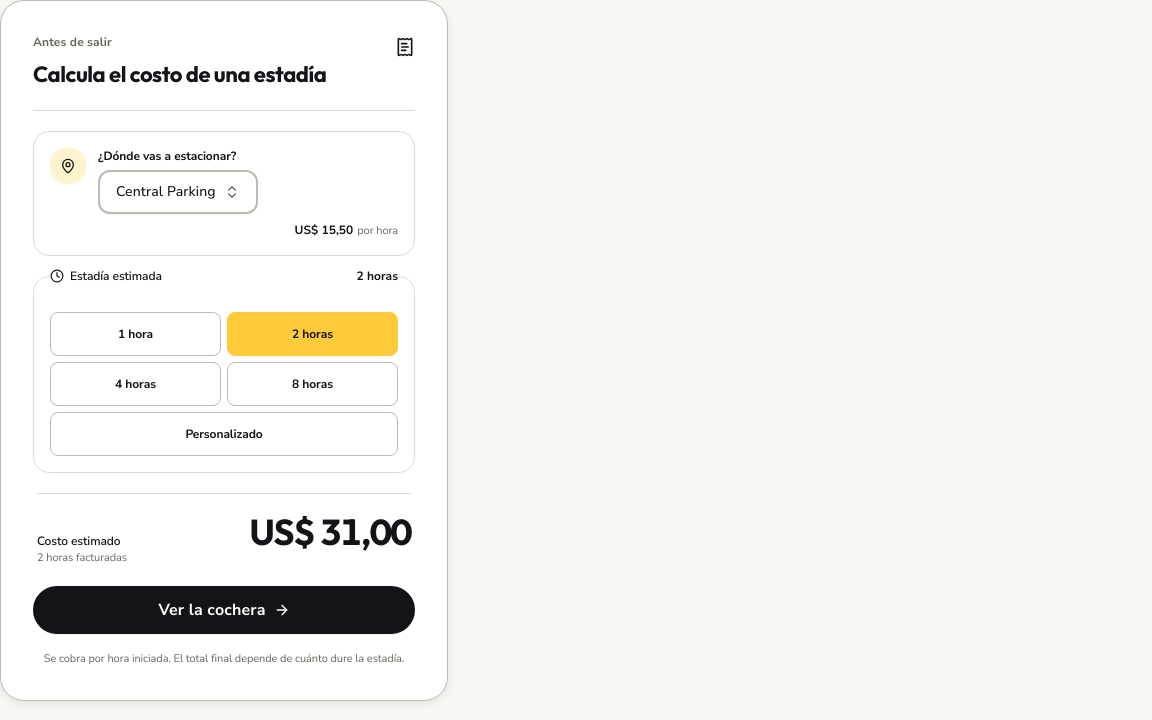
Test: ParkingCalculatorWidget › updates the rate and estimate when the selected facility changes
Click the dropdown named "¿Dónde vas a estacionar?": (178, 192) [98,170,258,214]
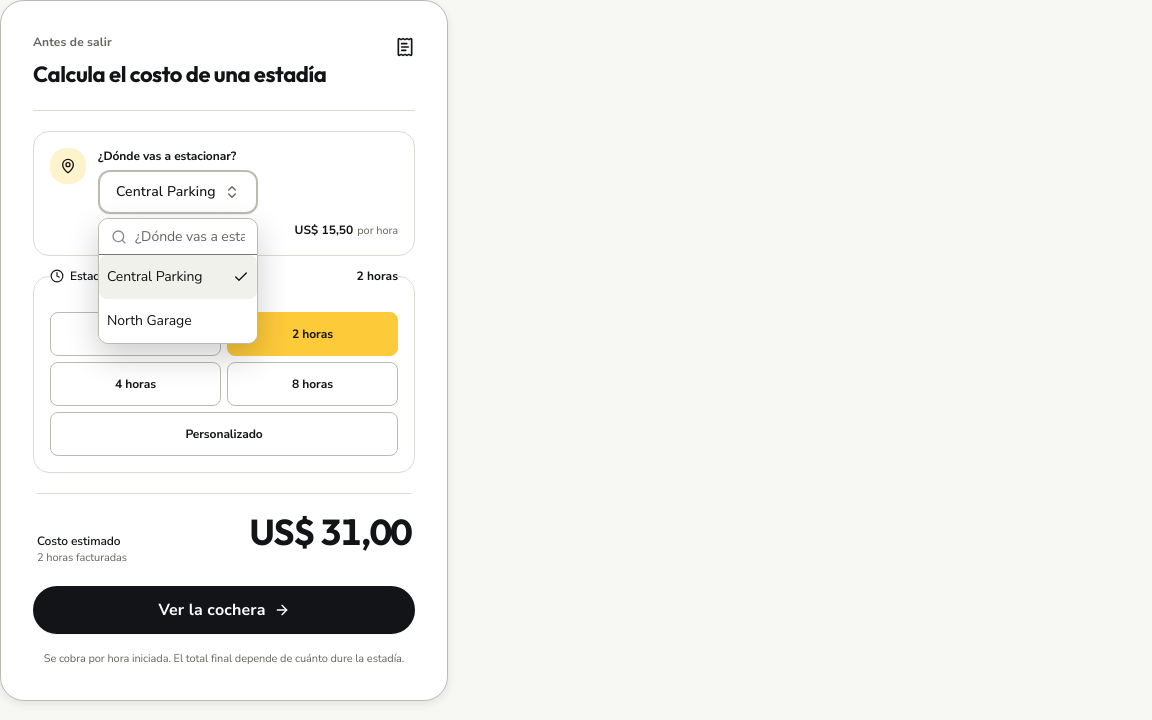
Click the option "North Garage": (149, 320) [107,311,192,330]
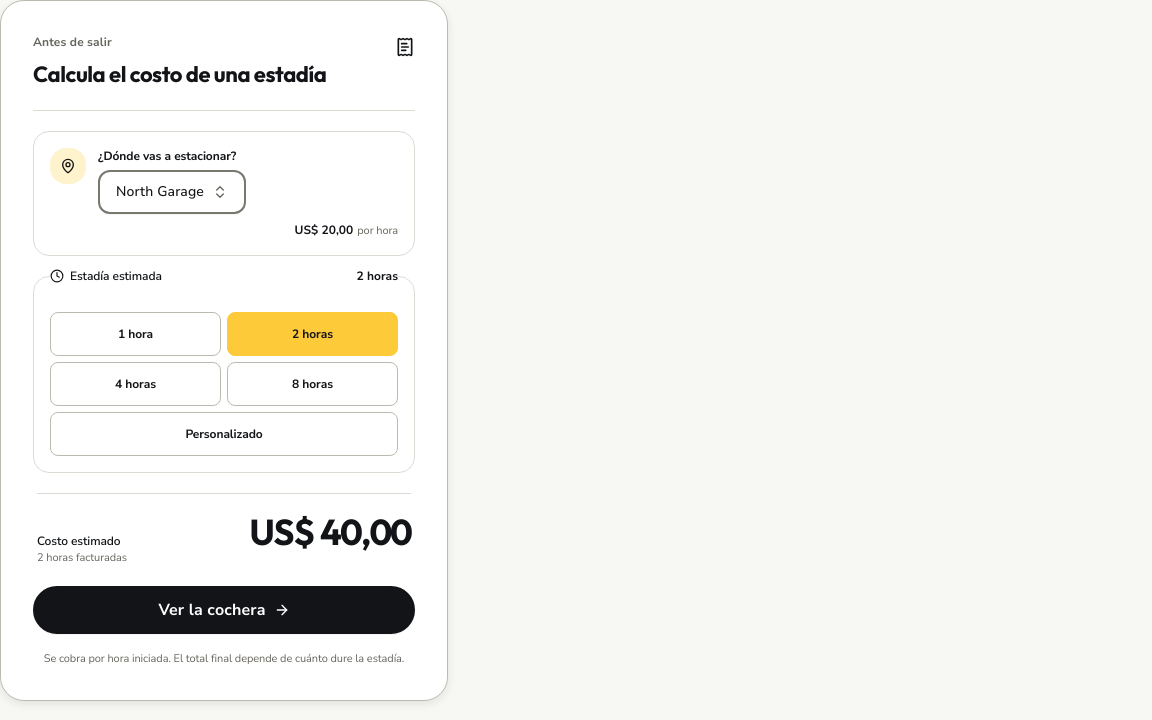
Now the dropdown named "¿Dónde vas a estacionar?" reads "North Garage", box [98,170,246,214]
Now the text "US$ 40,00" is shown, box [249,510,411,554]
